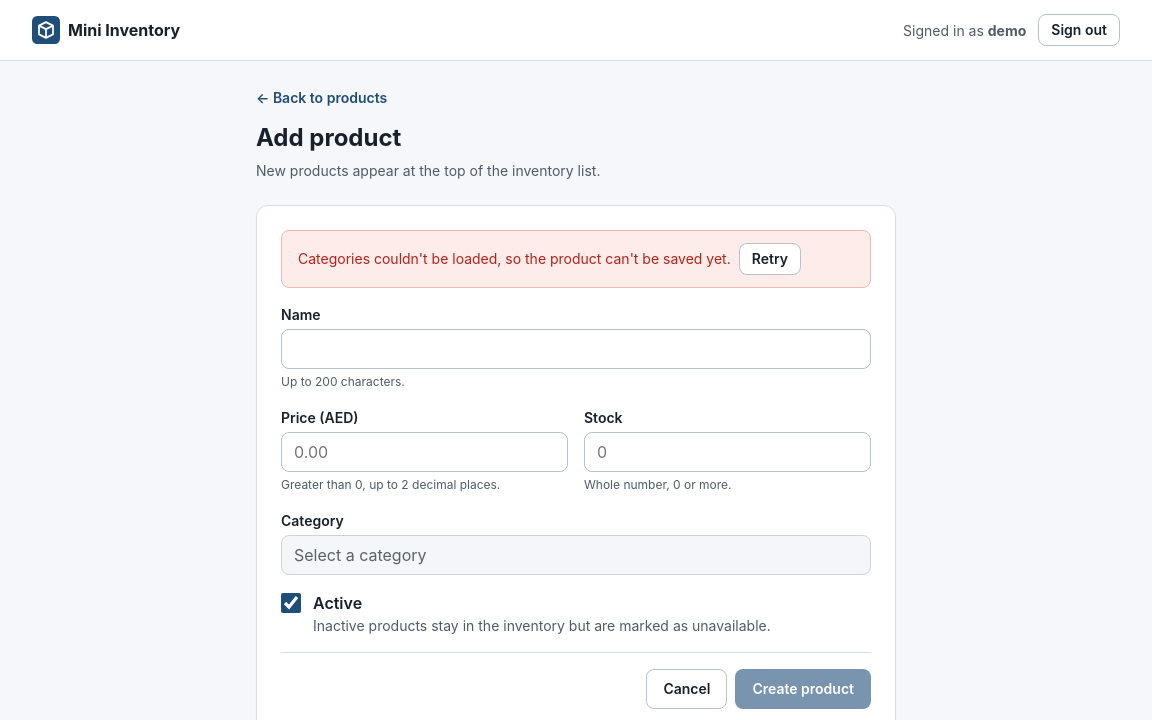
Test case: create product › blocks submission with a retry when categories fail to load
Check: the text "Categories couldn't be loaded" is shown, box [298,250,731,267]
Check: the button "Create product" is disabled, box [735,669,871,709]
Click the button "Retry" at [770, 259], box [739,243,801,275]
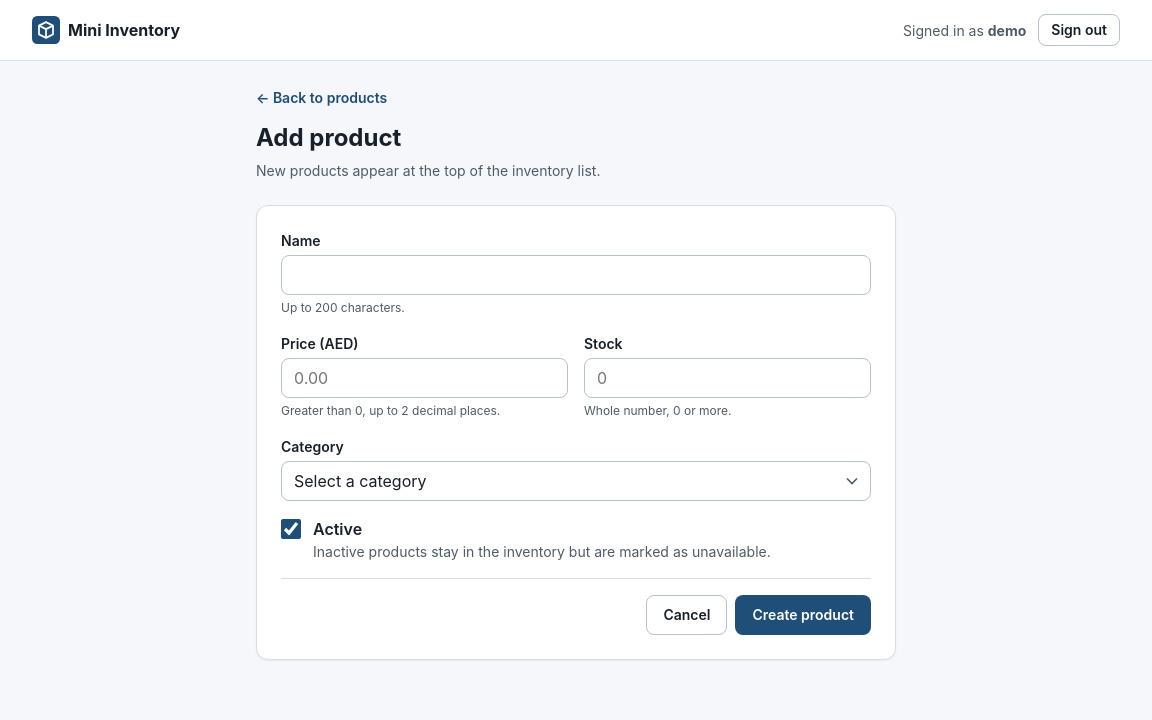
Check: the button "Create product" is enabled, box [735,595,871,635]
